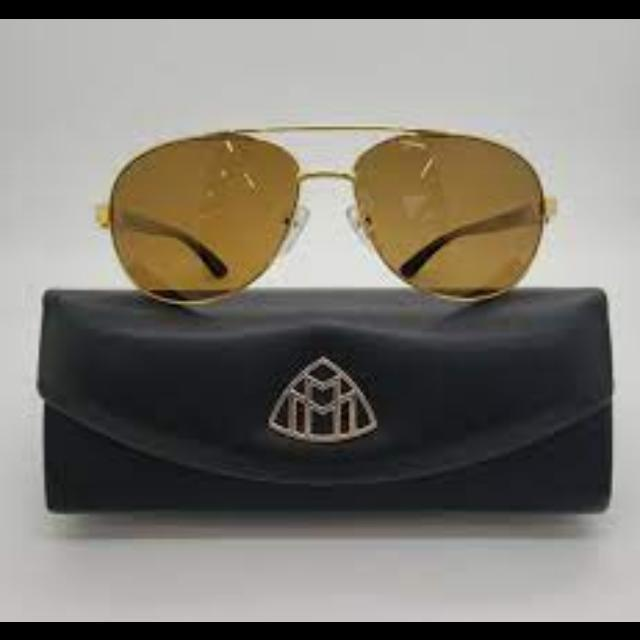sunglasses: (79, 116, 596, 308)
